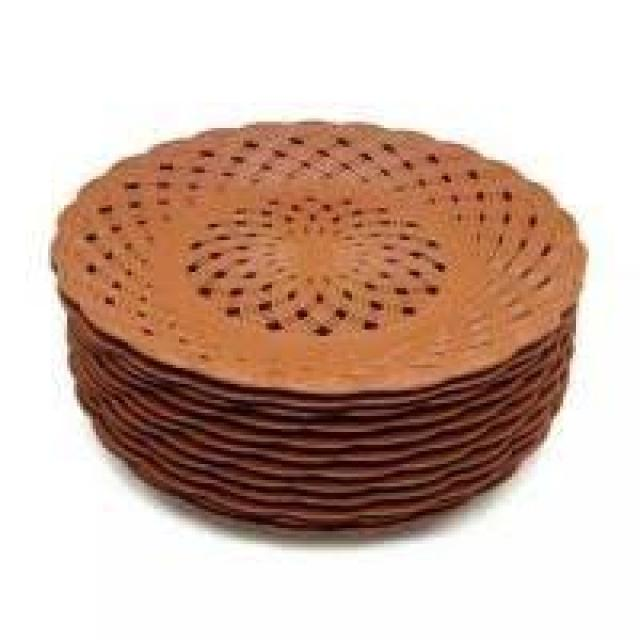Plate: (40, 100, 596, 564)
